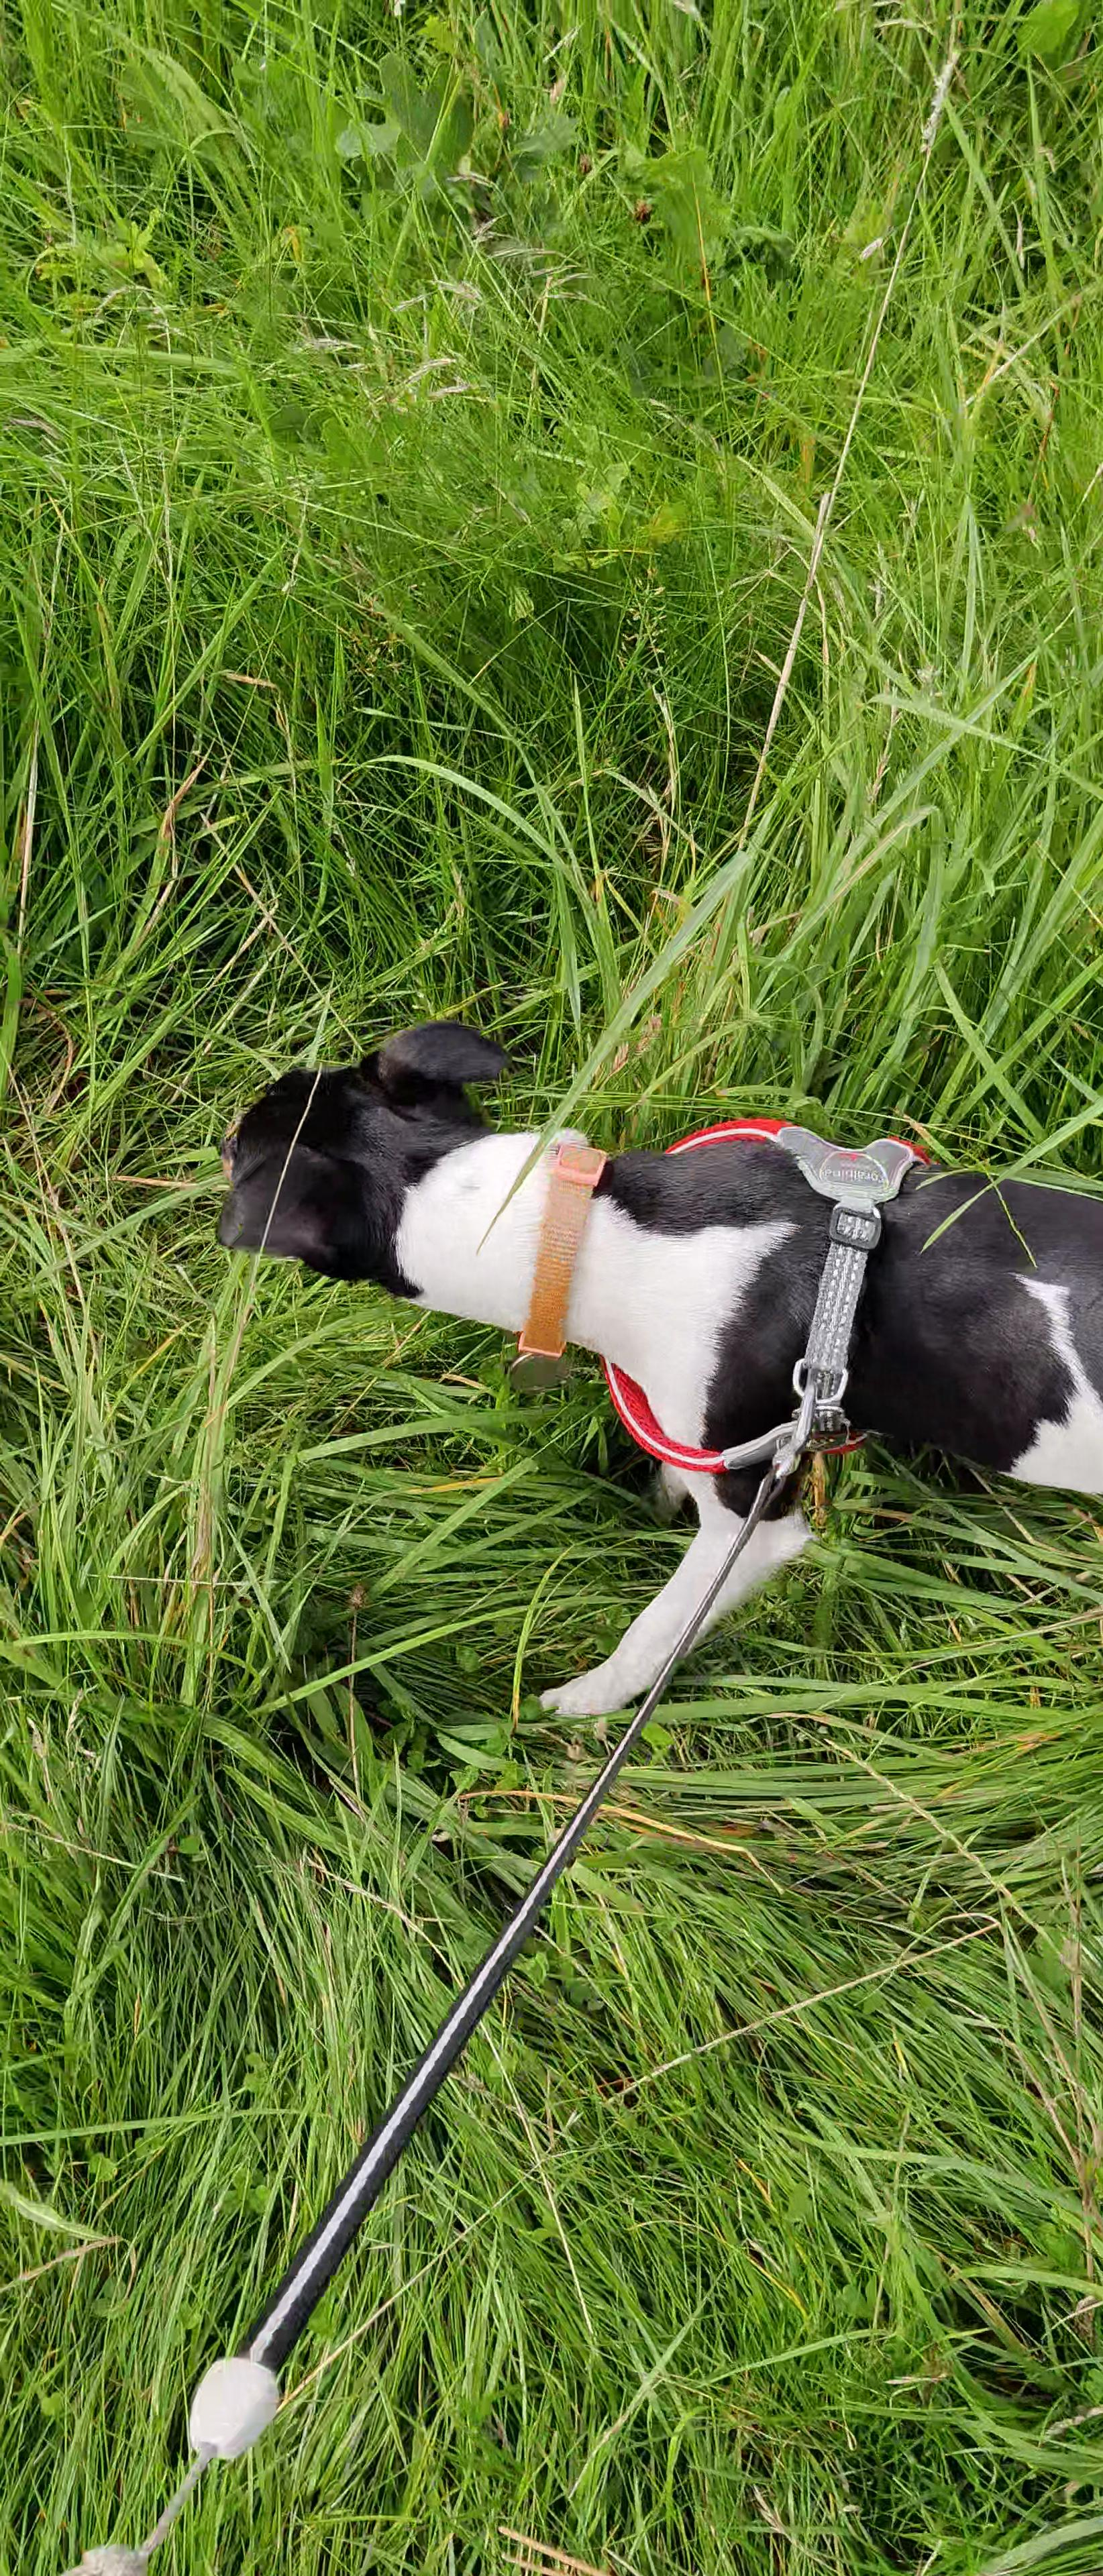Dog: (209, 1014, 1103, 1715)
